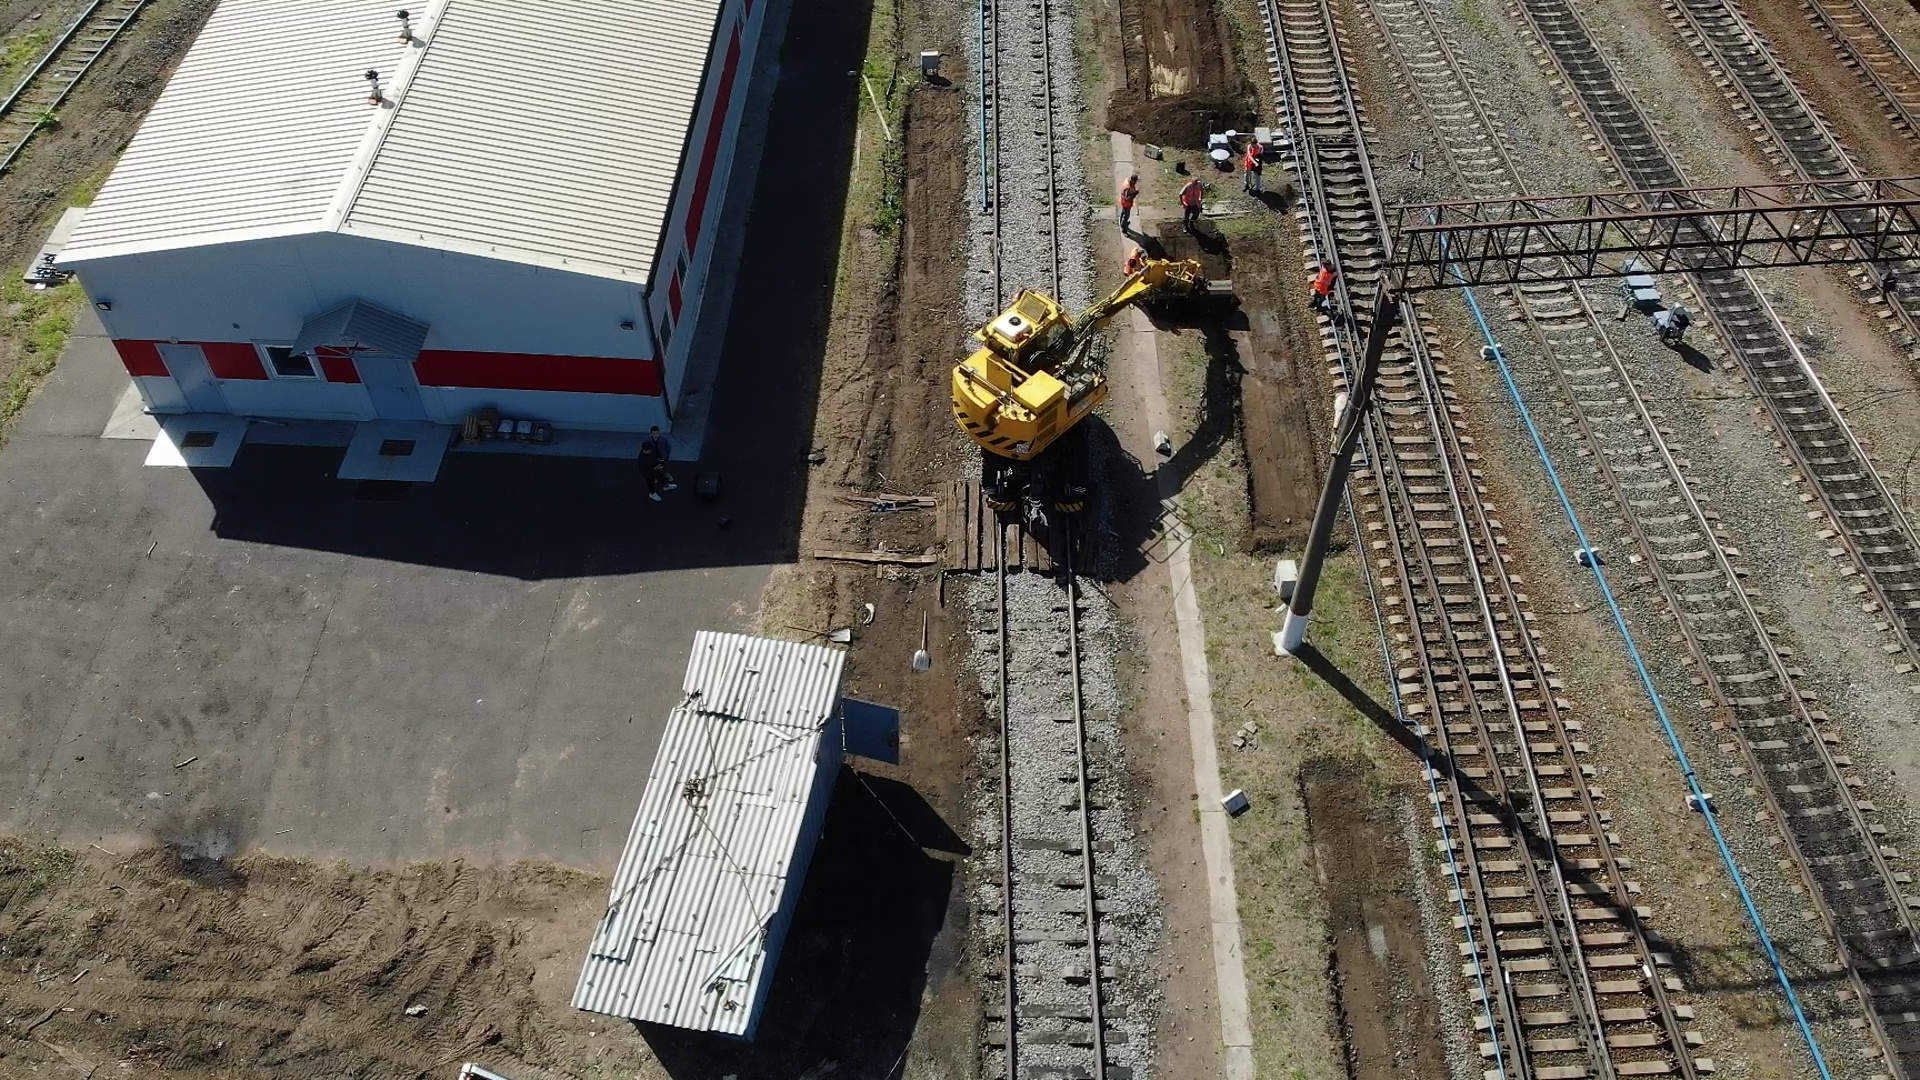kjtv: (949, 282, 1129, 516)
